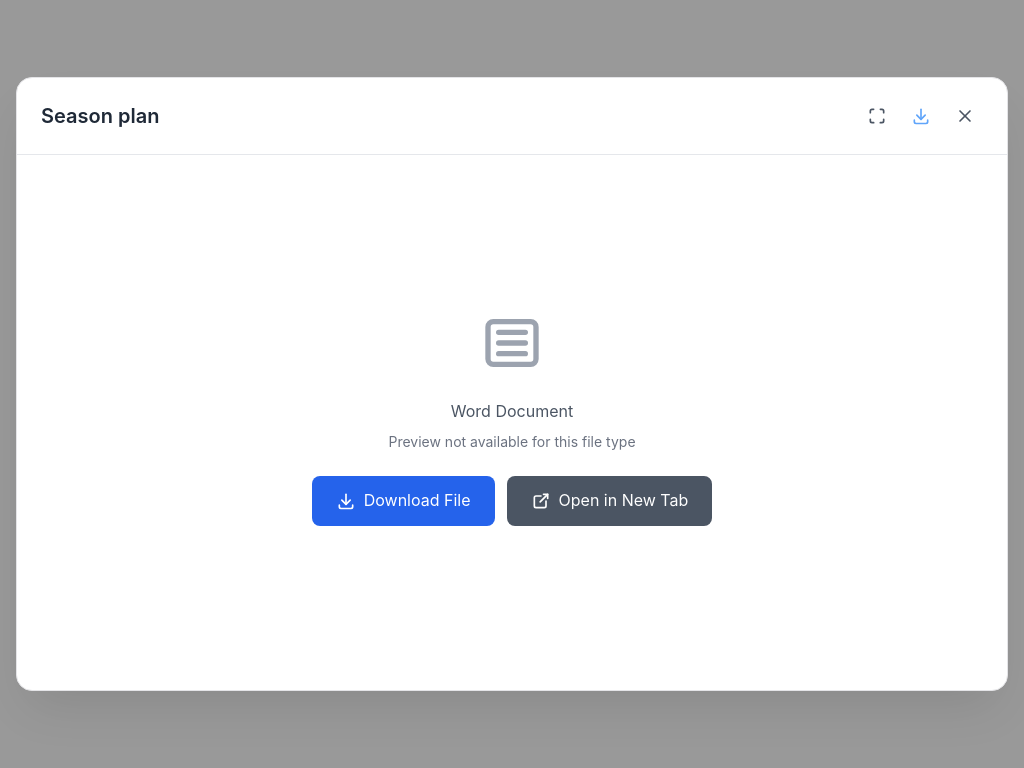
Test: open in a new tab › says so when the mint is refused, rather than doing nothing
This screenshot has width=1024, height=768.
Click the link "Open in New Tab".
click(609, 501)  # box [506,476,712,526]
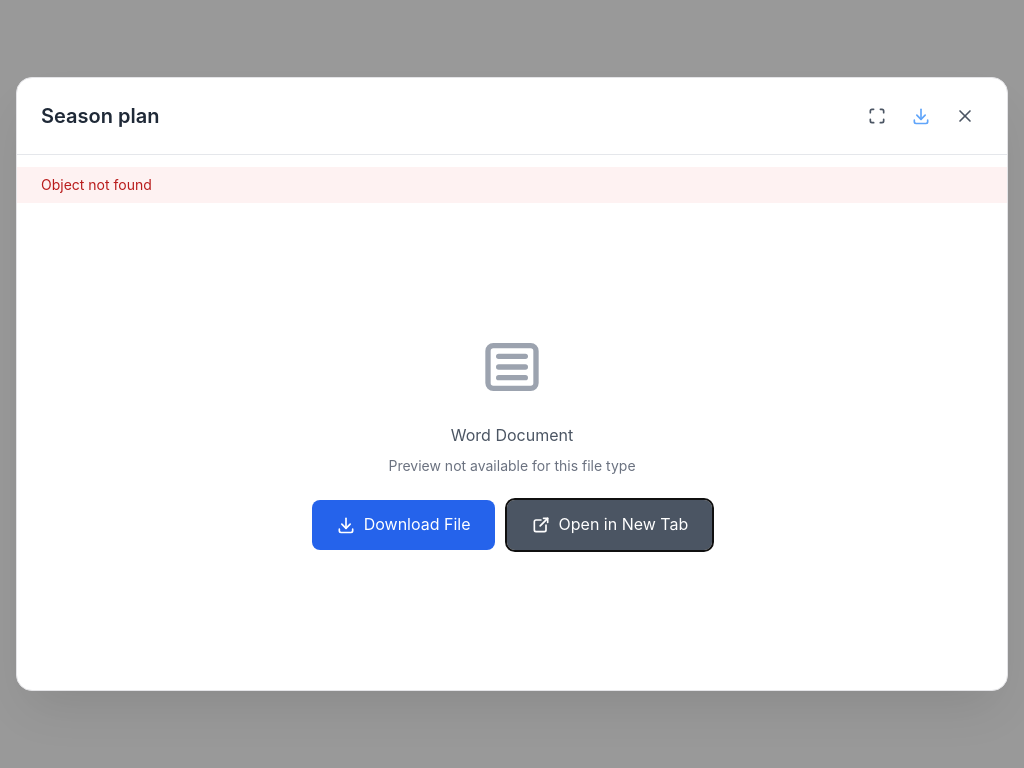
Now the message reads "Object not found", box [41,176,152,193]
